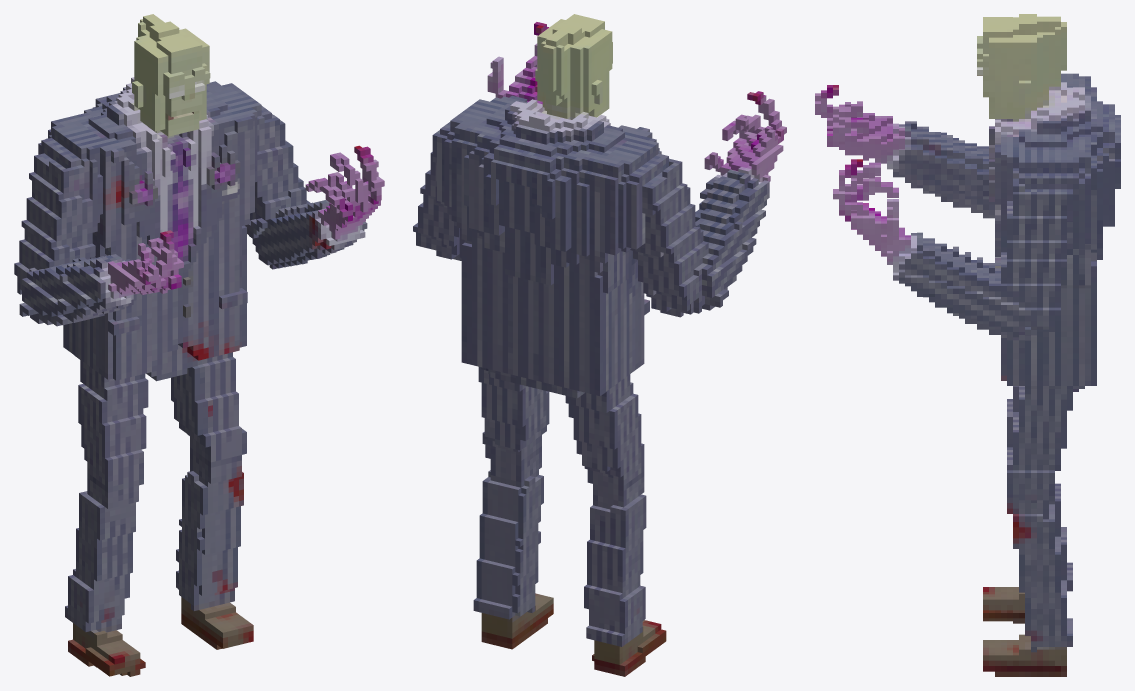
File: necromancer.voxel7.glb
3 renders of one model, left to right at view 1: azimuth 30°, elevation 25°; view 2: azimuth 150°, elevation 25°; view 3: azimuth 270°, elevation 25°, orthographic.
Visible parts, largest first — view 1: Voxelized; view 2: Voxelized; view 3: Voxelized.
Boxes of the visible parts, bbox=[...] form: Voxelized: bbox=[14, 14, 384, 676]; Voxelized: bbox=[413, 14, 786, 676]; Voxelized: bbox=[815, 14, 1120, 676].
Bounding box in the file's own units: 0.9398 × 1.9 × 0.8409.
